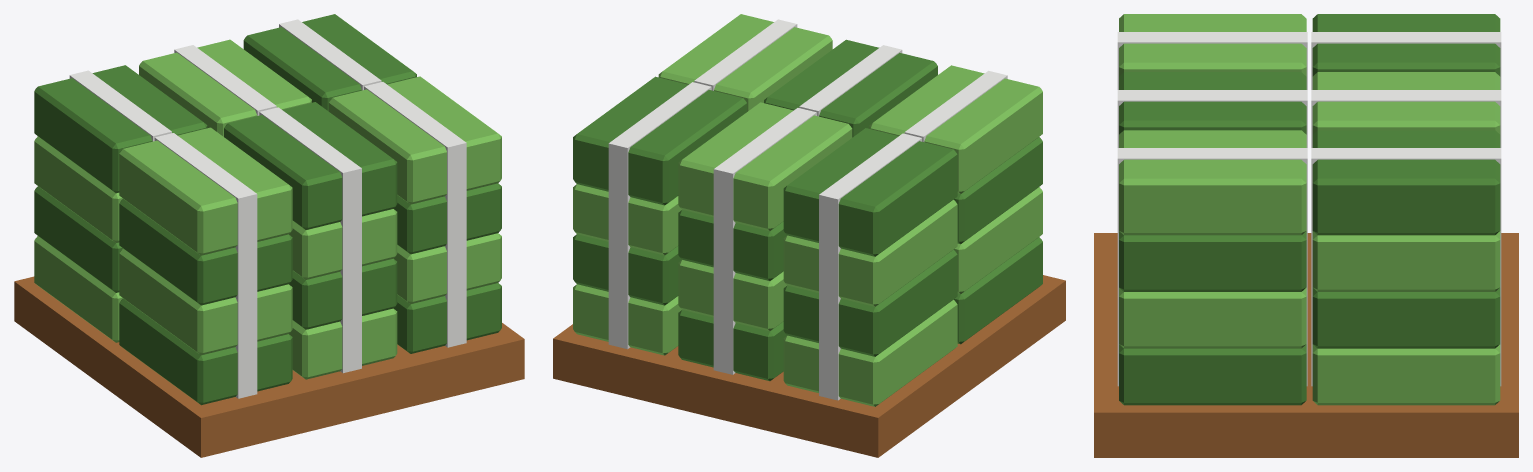
Rendered from CashPallet.fbx.
The picture shows the model from 3 angles, left to right: view 1: azimuth 30°, elevation 25°; view 2: azimuth 150°, elevation 25°; view 3: azimuth 270°, elevation 25°; orthographic projection. The views are drawn at different scales.
Visible parts, largest first — view 1: CashPallet; view 2: CashPallet; view 3: CashPallet.
Part boxes in pixels (x1,y1,x2,y2): CashPallet: [14, 14, 524, 457]; CashPallet: [553, 14, 1065, 457]; CashPallet: [1094, 14, 1518, 457].
Bounding box in the file's own units: 3.4 × 2.41 × 3.4.
Materials: 1 (1 with a texture image).
